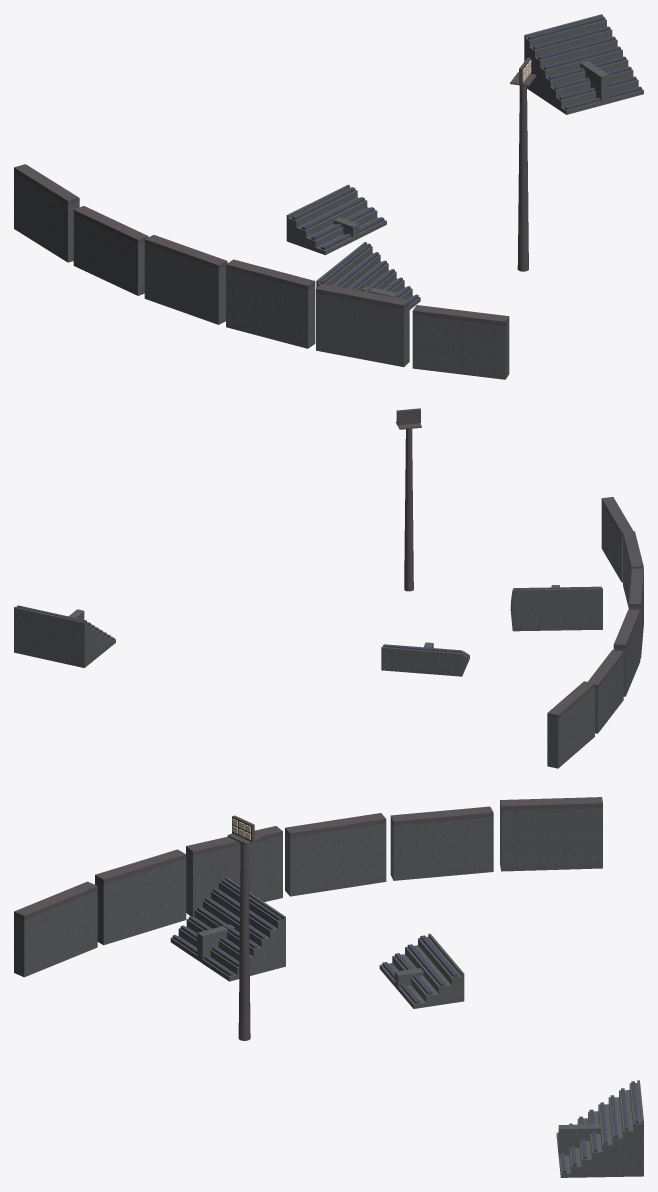
The model's file is SM_City_AlHalqa_4.fbx.
3 renders of one model, top to bottom at view 1: azimuth 30°, elevation 25°; view 2: azimuth 150°, elevation 25°; view 3: azimuth 270°, elevation 25°, orthographic. The views are drawn at different scales.
Parts seen in each view (by area): view 1: SM_City_AlHalqa_4; view 2: SM_City_AlHalqa_4; view 3: SM_City_AlHalqa_4.
Boxes of the visible parts, left/top/right/bottom form: SM_City_AlHalqa_4: left=14, top=14, right=643, bottom=379; SM_City_AlHalqa_4: left=14, top=408, right=643, bottom=768; SM_City_AlHalqa_4: left=14, top=797, right=643, bottom=1177.
Size of the model in its own units: 6053 by 1953 by 5105.
5 materials, 5 textured.
